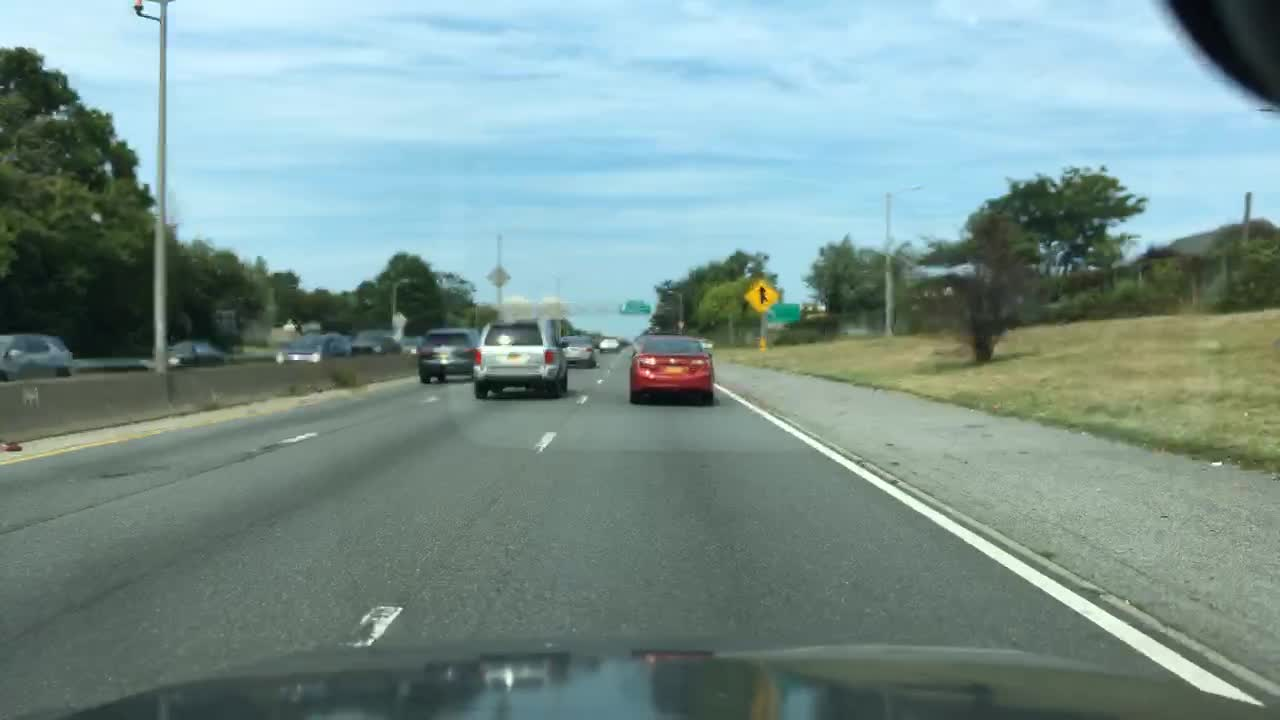car: (471, 319, 568, 398), (630, 333, 713, 403), (415, 328, 480, 383), (0, 332, 74, 380), (274, 330, 351, 361), (165, 338, 224, 365), (558, 335, 593, 368), (350, 333, 399, 353), (398, 335, 425, 355), (598, 336, 620, 353), (701, 337, 713, 351)
traffic sign: (744, 279, 778, 311), (767, 303, 797, 323), (485, 268, 512, 287), (620, 300, 651, 313), (391, 313, 406, 328)
